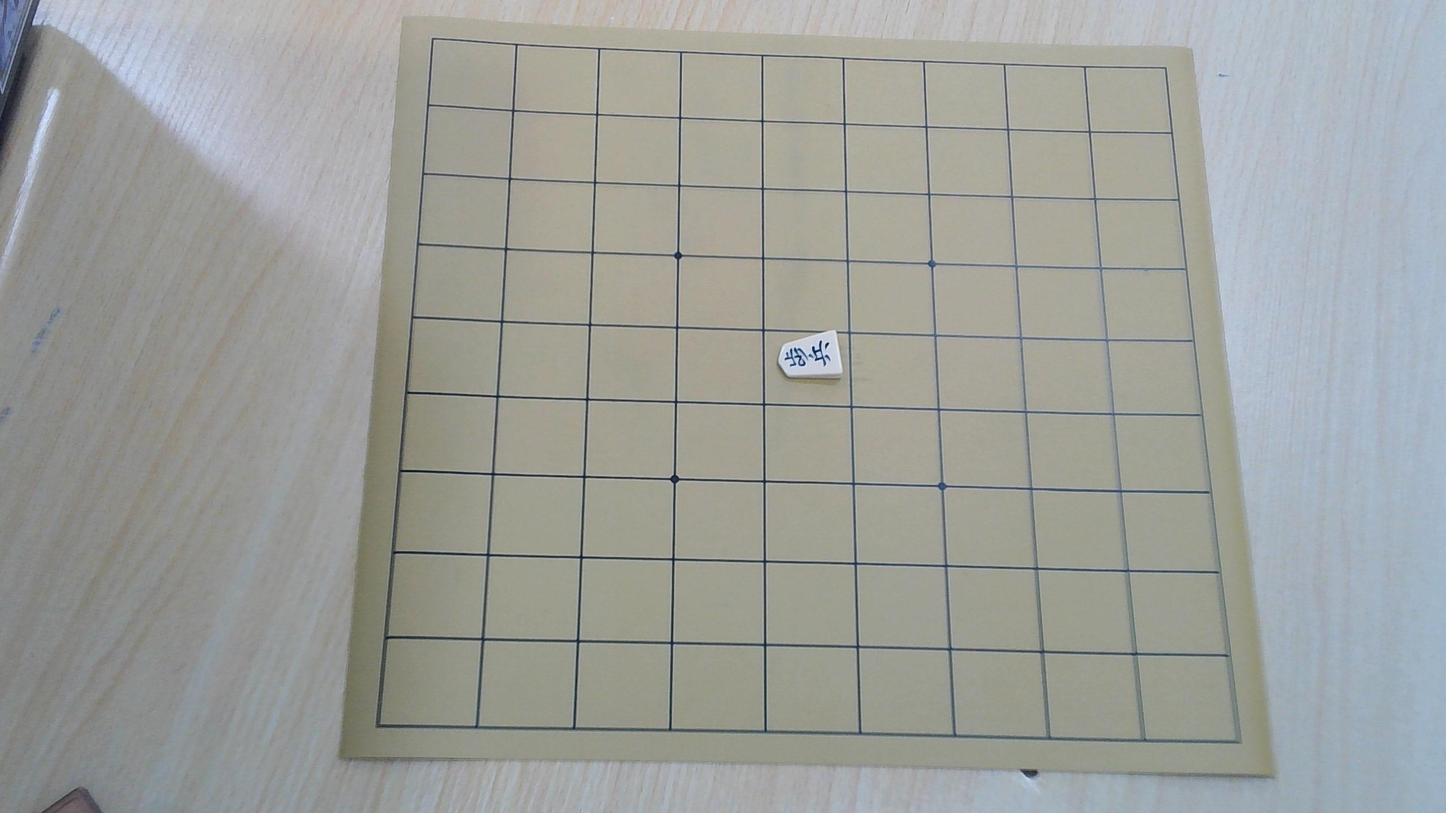board: (377, 38, 1238, 744)
